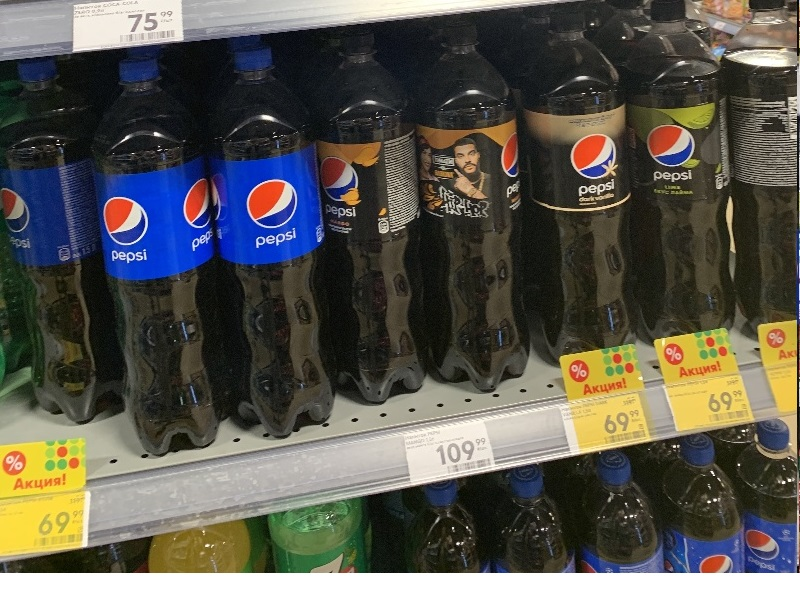lemonade: (196, 44, 341, 448), (306, 29, 445, 418), (4, 50, 139, 440), (98, 58, 228, 458), (407, 25, 541, 403), (617, 1, 748, 363), (526, 14, 646, 374)
